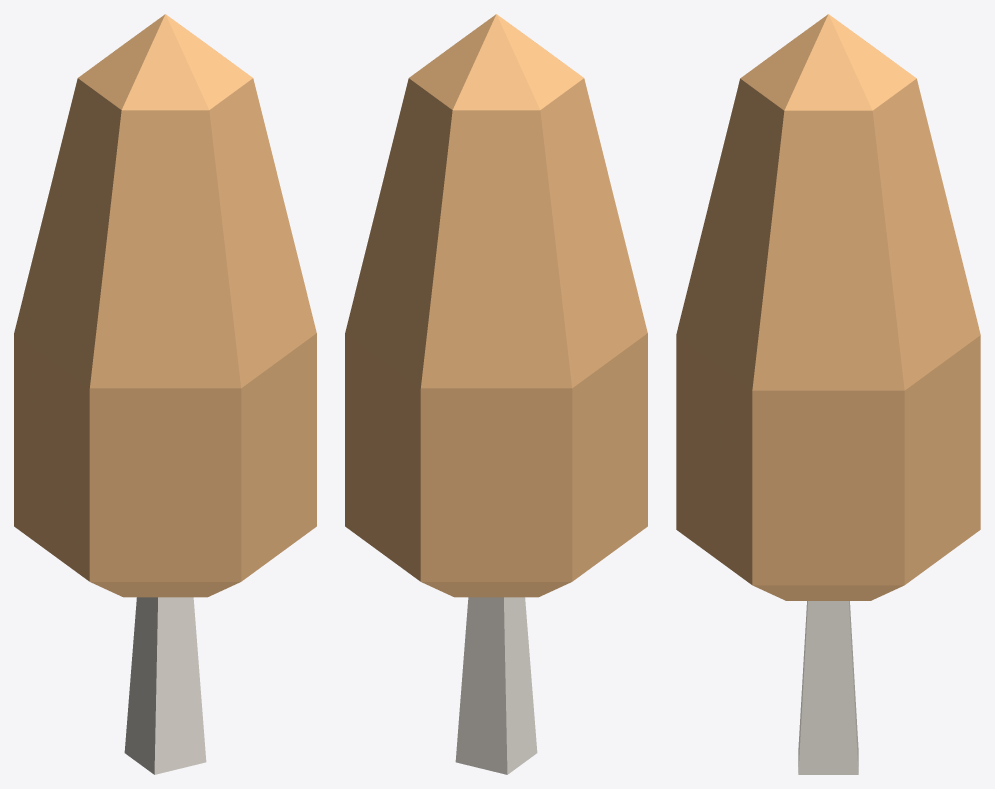
File: tree_small_fall.glb
The picture shows the model from 3 angles, left to right: view 1: azimuth 30°, elevation 25°; view 2: azimuth 150°, elevation 25°; view 3: azimuth 270°, elevation 25°; orthographic projection.
Visible parts, largest first — view 1: tree_small_fall; view 2: tree_small_fall; view 3: tree_small_fall.
Boxes of the visible parts, bbox=[...] form: tree_small_fall: bbox=[14, 14, 316, 774]; tree_small_fall: bbox=[345, 14, 647, 774]; tree_small_fall: bbox=[676, 14, 980, 774].
Bounding box in the file's own units: 0.3546 × 1.11 × 0.4095.
